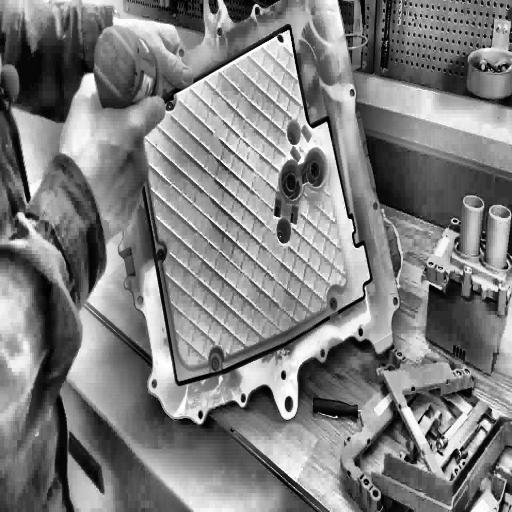bms_unit: (112, 0, 402, 421)
connector: (420, 186, 512, 376)
